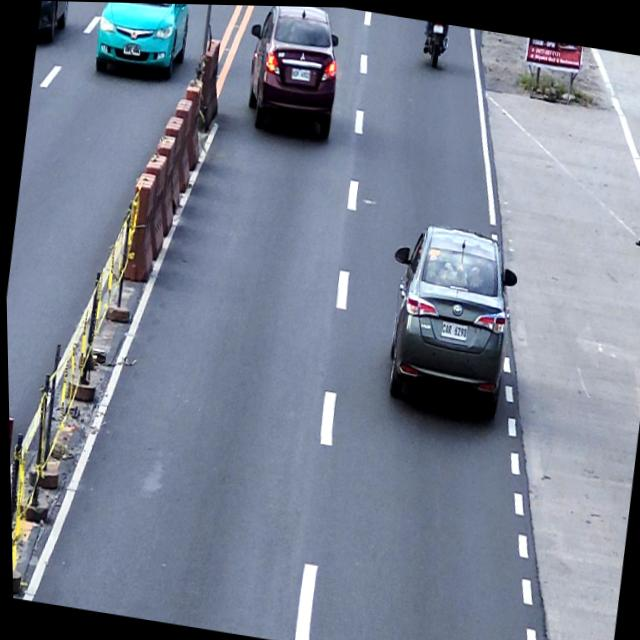Car: (372, 218, 524, 424), (235, 4, 348, 147), (90, 2, 195, 83), (35, 1, 76, 48)
License-Plate: (438, 319, 468, 340), (290, 65, 311, 81), (122, 41, 142, 57), (433, 23, 443, 32)
Motorcycle: (421, 19, 450, 68)
